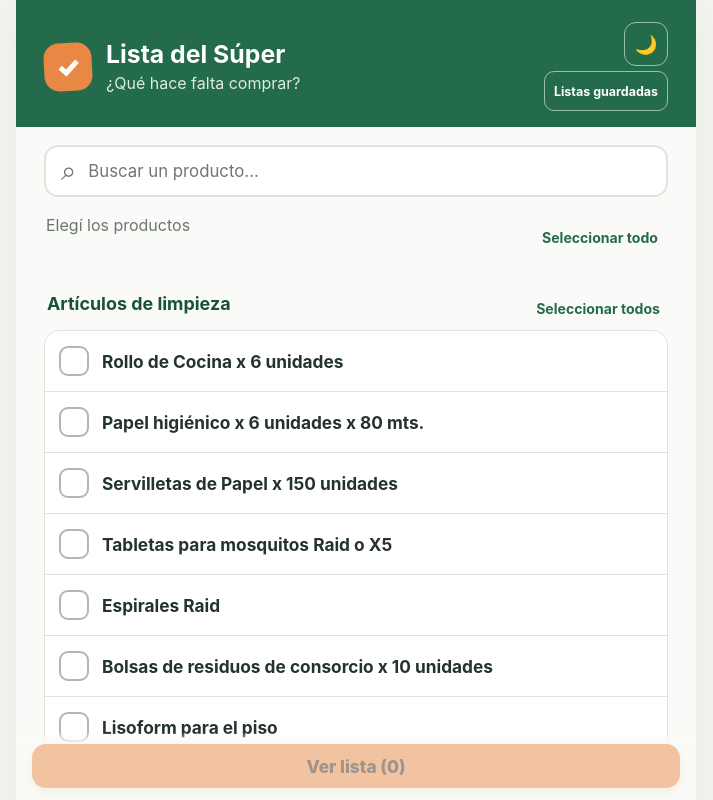
it: Lista del Súper V2 › shows a previously saved last purchase
Click the button "Listas guardadas": (606, 91) [544, 71, 668, 111]
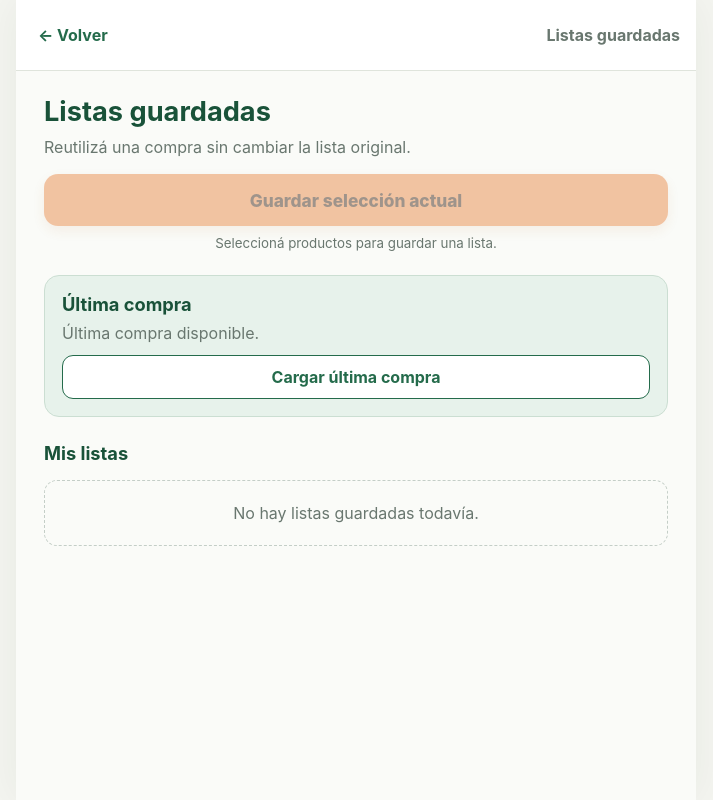
Check: the text "Última compra disponible." is shown, box [62, 323, 259, 343]
